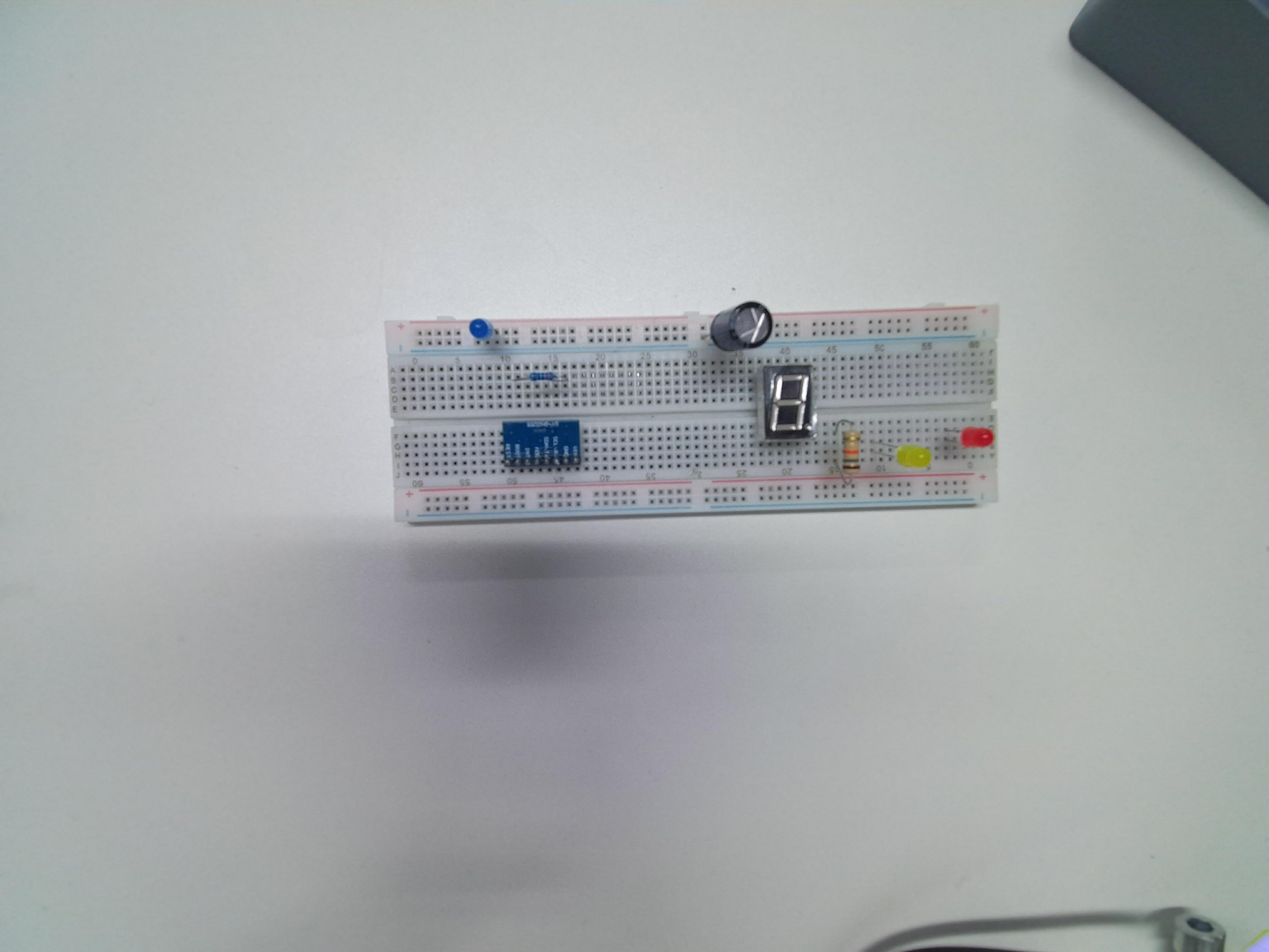base: (384, 298, 1001, 531)
blue-board: (501, 418, 580, 468)
blue-led: (469, 318, 491, 343)
capacitor: (710, 300, 773, 354)
digit-board: (758, 364, 817, 443)
red-led: (960, 426, 995, 448)
resistor-big: (840, 427, 862, 473)
resistor-small: (526, 369, 559, 383)
yellow-led: (896, 445, 931, 468)
